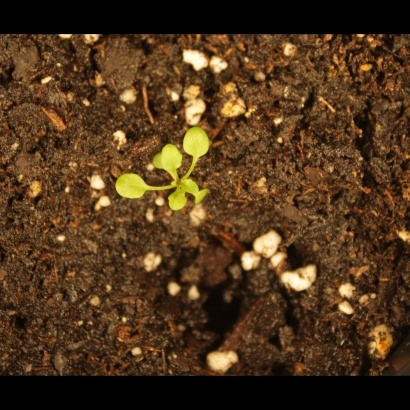leaf: (183, 121, 215, 161), (113, 170, 150, 202), (157, 140, 185, 171), (166, 190, 189, 213), (193, 186, 216, 209), (179, 176, 202, 199), (146, 146, 169, 169)
